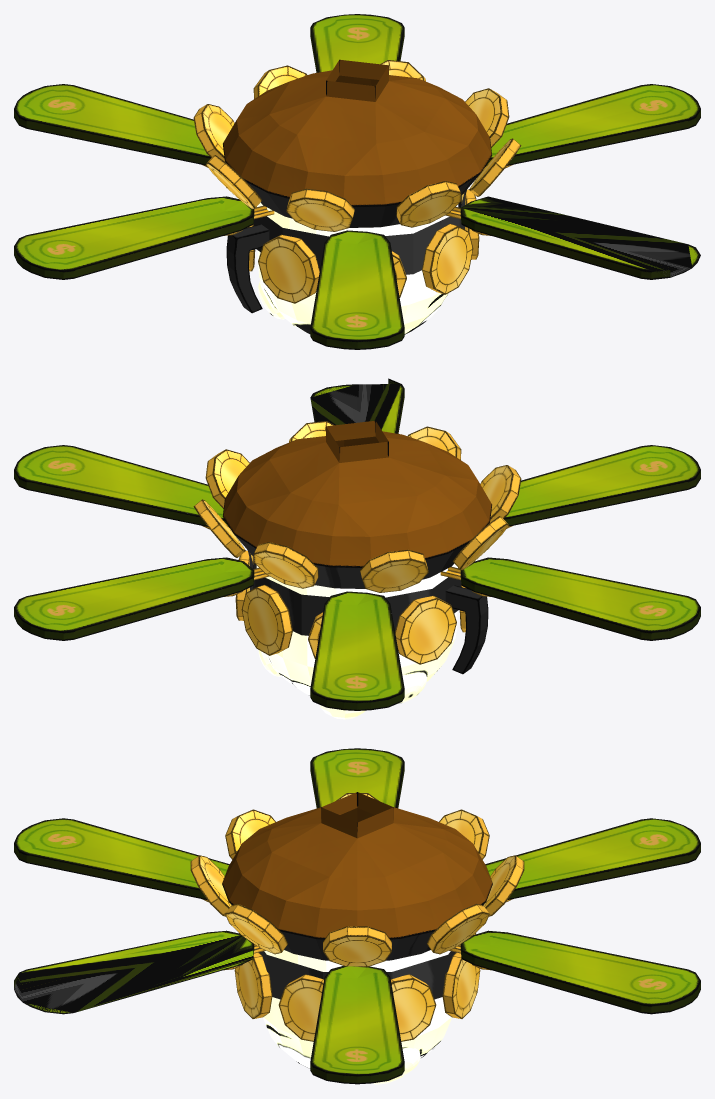
Rendered from tippylight.glb.
3 renders of one model, top to bottom at view 1: azimuth 30°, elevation 25°; view 2: azimuth 150°, elevation 25°; view 3: azimuth 270°, elevation 25°, orthographic.
Parts seen in each view (by area): view 1: top1, fan_6, top_coins, fan_2, fan_1, fan_5, fan_3, coins, fan_4, face, black_cylinder, handel; view 2: top1, fan_6, fan_4, top_coins, fan_3, fan_5, fan_1, coins, face, fan_2, black_cylinder, handel (+1 smaller); view 3: top1, top_coins, fan_2, fan_4, fan_5, fan_1, fan_3, coins, fan_6, face, black_cylinder.
Part boxes in pixels (left/top/right/bottom): top1: left=223, top=59, right=492, bottom=227; fan_6: left=14, top=196, right=274, bottom=279; top_coins: left=193, top=60, right=521, bottom=231; fan_2: left=445, top=196, right=700, bottom=279; fan_1: left=310, top=230, right=404, bottom=349; fan_5: left=484, top=84, right=700, bottom=168; fan_3: left=14, top=84, right=210, bottom=167; coins: left=249, top=189, right=479, bottom=303; fan_4: left=310, top=14, right=404, bottom=72; face: left=257, top=202, right=458, bottom=334; black_cylinder: left=253, top=190, right=466, bottom=274; handel: left=226, top=224, right=269, bottom=313; top1: left=222, top=420, right=491, bottom=588; fan_6: left=440, top=557, right=700, bottom=640; fan_4: left=14, top=557, right=269, bottom=640; top_coins: left=193, top=421, right=521, bottom=592; fan_3: left=310, top=591, right=404, bottom=710; fan_5: left=14, top=445, right=230, bottom=529; fan_1: left=504, top=445, right=700, bottom=528; coins: left=235, top=550, right=465, bottom=664; face: left=256, top=563, right=457, bottom=695; fan_2: left=310, top=378, right=404, bottom=433; black_cylinder: left=248, top=551, right=461, bottom=635; handel: left=445, top=585, right=488, bottom=674; top1: left=222, top=792, right=492, bottom=960; top_coins: left=190, top=793, right=524, bottom=966; fan_2: left=14, top=930, right=265, bottom=1014; fan_4: left=449, top=930, right=700, bottom=1014; fan_5: left=310, top=966, right=404, bottom=1084; fan_1: left=14, top=818, right=229, bottom=902; fan_3: left=485, top=818, right=700, bottom=902; coins: left=234, top=933, right=480, bottom=1041; fan_6: left=310, top=748, right=404, bottom=808; face: left=262, top=950, right=452, bottom=1068; black_cylinder: left=259, top=951, right=455, bottom=999.
Bounding box in the file's own units: 0.2976 × 0.1168 × 0.2644.
Materials: 1 (1 with a texture image).
